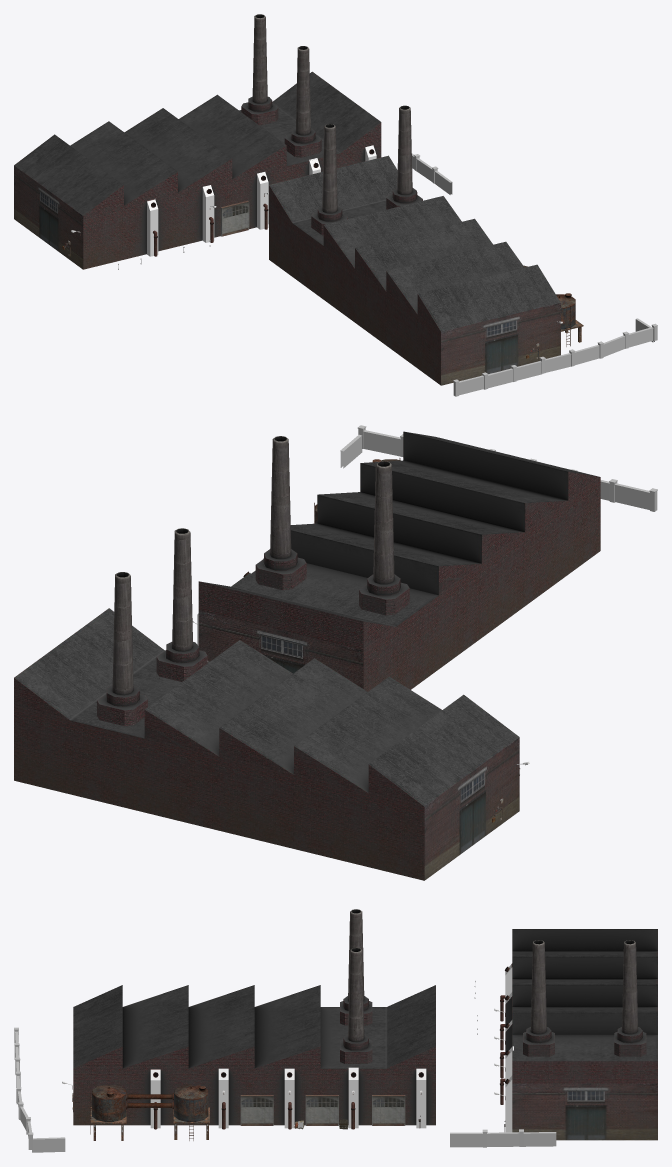
Rendered from IndustrialArea.fbx.
3 views of the same model, one above another, from view 1: azimuth 30°, elevation 25°; view 2: azimuth 150°, elevation 25°; view 3: azimuth 270°, elevation 25° (orthographic). The views are drawn at different scales.
Visible parts, largest first — view 1: IndustrialShed (×2), Chimney (×2), Chimney (2) (×2), ShedGates (1); view 2: IndustrialShed (×2), Chimney (2) (×2), Chimney (×2), PlasterWall_01 (×2); view 3: IndustrialShed (×2), Chimney (×2), Chimney (2) (×2), RustedIndustrialTank (×2), PlasterWall_01 (×4), ShedGates (1), ShedGates (2), ShedGates (3), Cube (12), Cube (6), Cube (3), Cube (9) (+1 smaller).
Part boxes in pixels (box(x1,y1,x2,y2)): IndustrialShed (×2): box(14, 71, 560, 385); Chimney (×2): box(284, 46, 422, 209); Chimney (2) (×2): box(241, 14, 347, 235); ShedGates (1): box(220, 200, 249, 236); IndustrialShed (×2): box(14, 431, 600, 880); Chimney (2) (×2): box(97, 461, 409, 726); Chimney (×2): box(156, 436, 306, 681); PlasterWall_01 (×2): box(363, 430, 649, 509); IndustrialShed (×2): box(73, 929, 657, 1140); Chimney (×2): box(340, 940, 554, 1063); Chimney (2) (×2): box(340, 909, 646, 1056); RustedIndustrialTank (×2): box(92, 1084, 208, 1121); PlasterWall_01 (×4): box(32, 1132, 556, 1152); ShedGates (1): box(240, 1095, 273, 1125); ShedGates (2): box(305, 1095, 338, 1125); ShedGates (3): box(372, 1095, 405, 1125); Cube (12): box(416, 1080, 426, 1128); Cube (6): box(284, 1080, 294, 1128); Cube (3): box(218, 1080, 228, 1128); Cube (9): box(348, 1080, 358, 1128).
Bounding box in the file's own units: 62.91 × 26.47 × 93.97.
